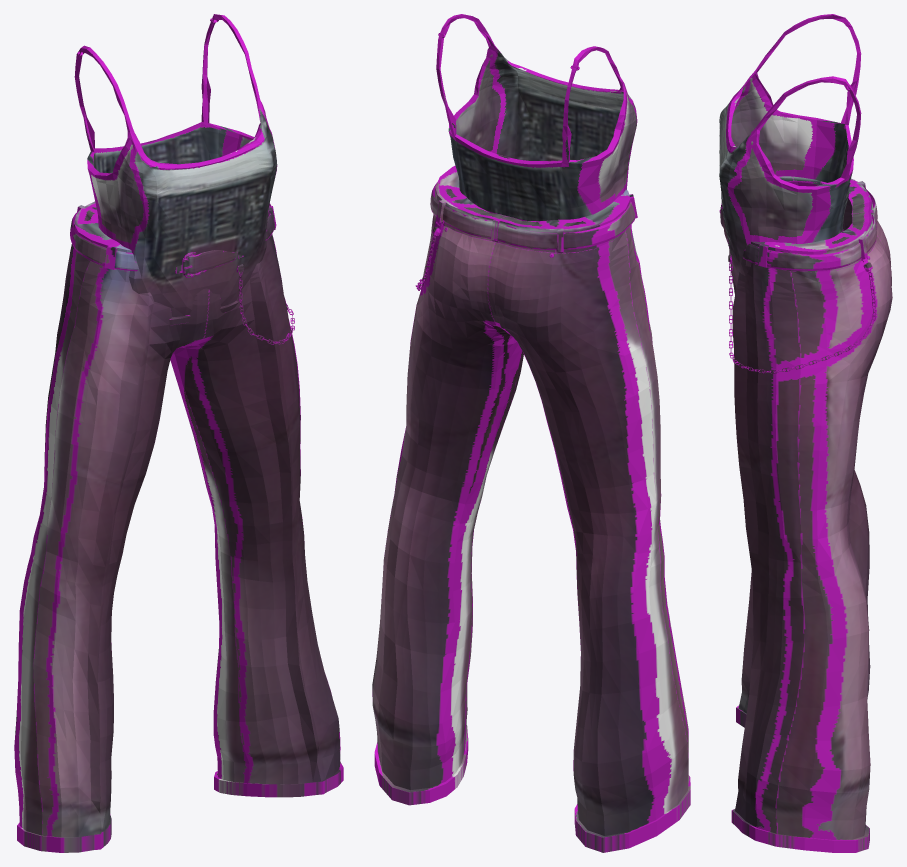
3 renders of one model, left to right at view 1: azimuth 30°, elevation 25°; view 2: azimuth 150°, elevation 25°; view 3: azimuth 270°, elevation 25°, orthographic. The views are drawn at different scales.
Bounding box in the file's own units: 0.3444 × 0.8546 × 0.1777.
Materials: 1 (1 with a texture image).
